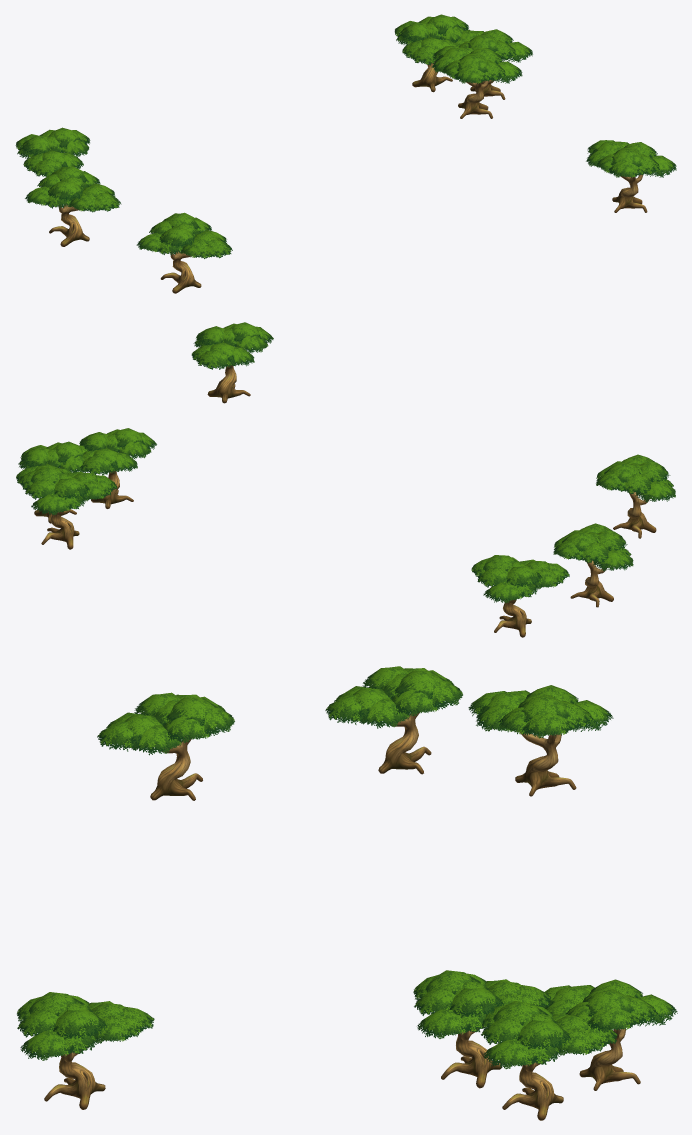
The model's file is LV2_trees.fbx.
The picture shows the model from 3 angles, top to bottom: view 1: azimuth 30°, elevation 25°; view 2: azimuth 150°, elevation 25°; view 3: azimuth 270°, elevation 25°; orthographic projection. The views are drawn at different scales.
Parts seen in each view (by area): view 1: Trunk; view 2: Trunk; view 3: Trunk.
Boxes of the visible parts, x1,y1,x2,y2 form: Trunk: (15, 14, 676, 293); Trunk: (16, 322, 675, 637); Trunk: (17, 666, 677, 1120).
Bounding box in the file's own units: 4024 × 514 × 2851.
